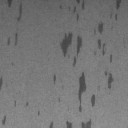red iron: (14, 0, 126, 128), (7, 0, 22, 46), (2, 116, 6, 126), (0, 77, 3, 86)
